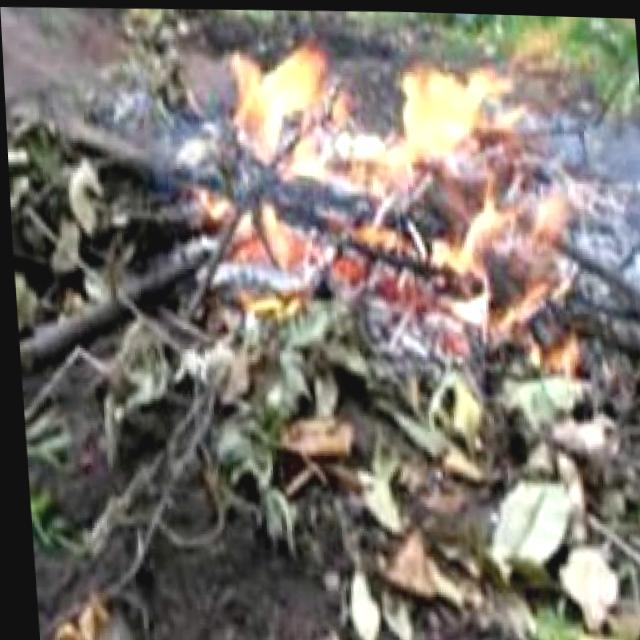helmet: (174, 24, 591, 355)
